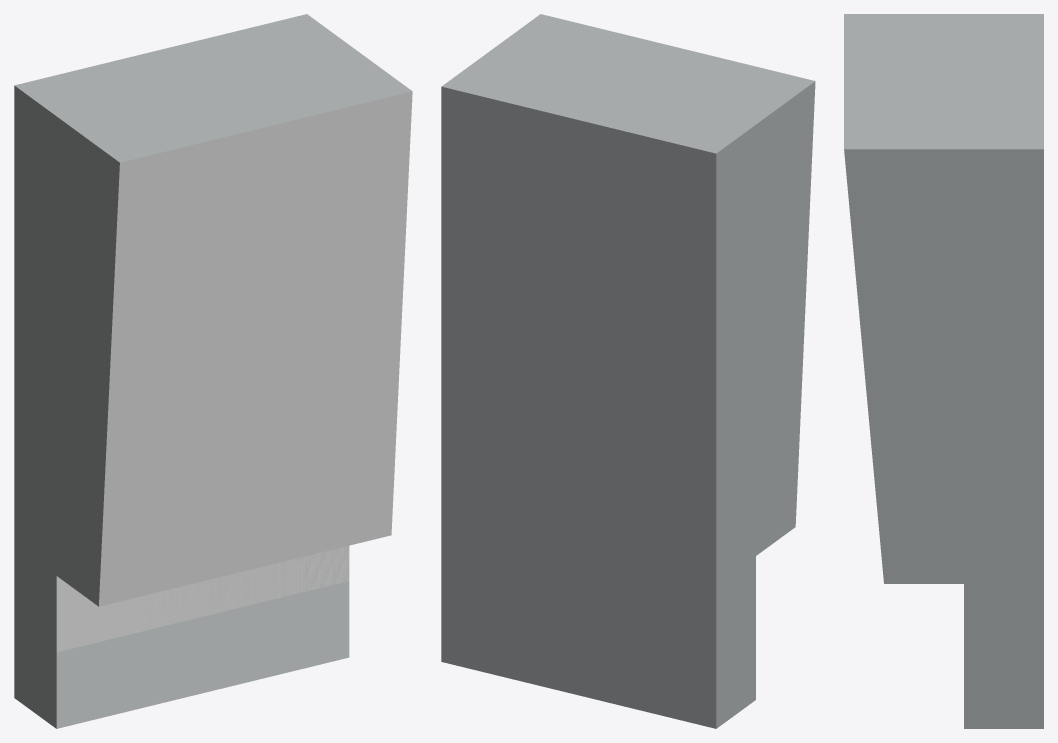
The model's file is beijing_diaoban_c.obj.
The picture shows the model from 3 angles, left to right: view 1: azimuth 30°, elevation 25°; view 2: azimuth 150°, elevation 25°; view 3: azimuth 270°, elevation 25°; orthographic projection. The views are drawn at different scales.
Parts seen in each view (by area): view 1: c1, c3, c2; view 2: c2, c1, c3; view 3: c1, c2, c3.
Part boxes in pixels (x1=…): c1: x1=14, y1=14, x2=412, y2=606; c3: x1=14, y1=14, x2=349, y2=728; c2: x1=14, y1=164, x2=349, y2=652; c2: x1=441, y1=159, x2=755, y2=656; c1: x1=441, y1=14, x2=815, y2=560; c3: x1=441, y1=58, x2=755, y2=728; c1: x1=844, y1=14, x2=1043, y2=583; c2: x1=964, y1=221, x2=1043, y2=656; c3: x1=964, y1=14, x2=1043, y2=728.
Bounding box in the file's own units: 0.5 × 1 × 0.3125.
Materials: 3 (3 with a texture image).
